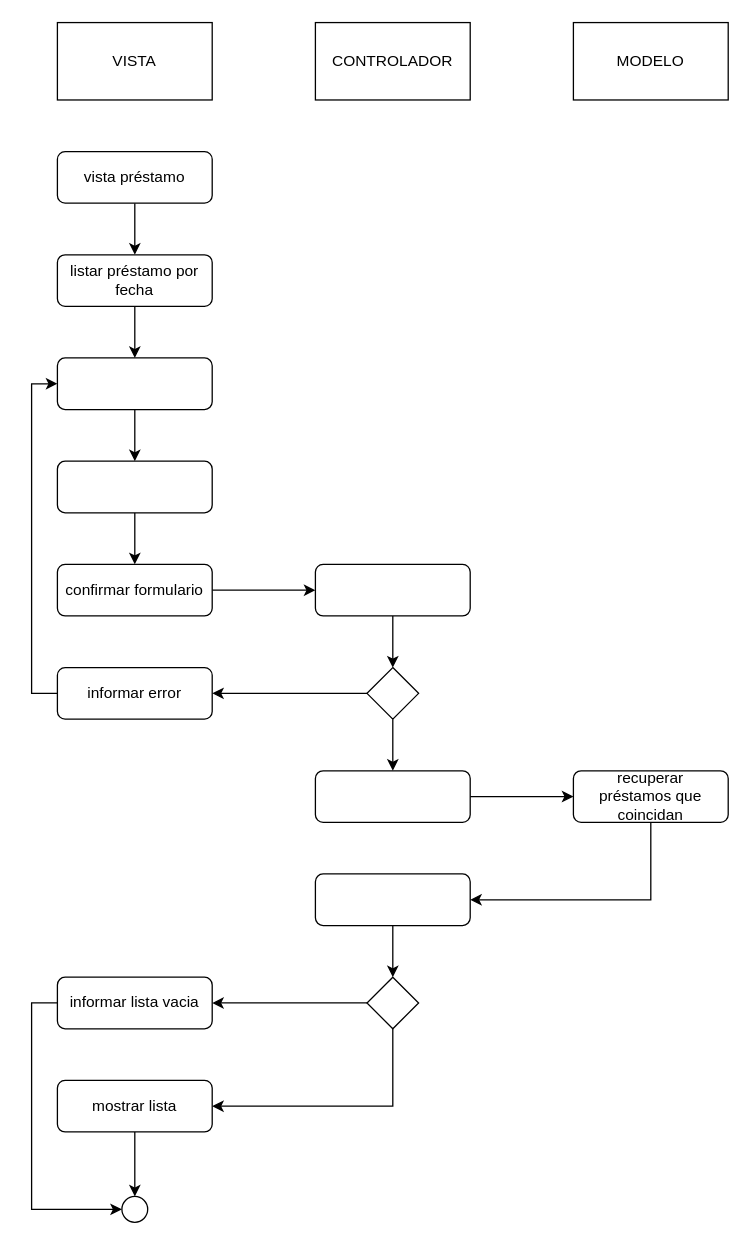
Some shapes in this 751 by 1245 pixel diagram are drawn without their labels. The shapes that lost their labels are listed below. From the top down, each one's centre as x and y in pixels, then its label:
pixel 134 383: mostrar formulario
pixel 134 486: completar formulario
pixel 392 589: validar datos
pixel 392 795: recuperar lista préstamos
pixel 392 899: comprobar lista
